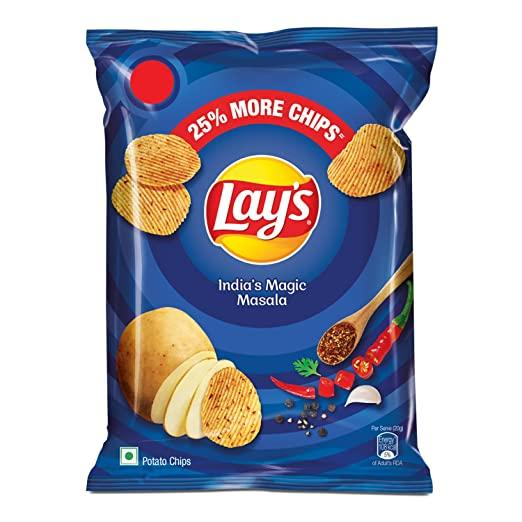Lays: (82, 28, 441, 499)
